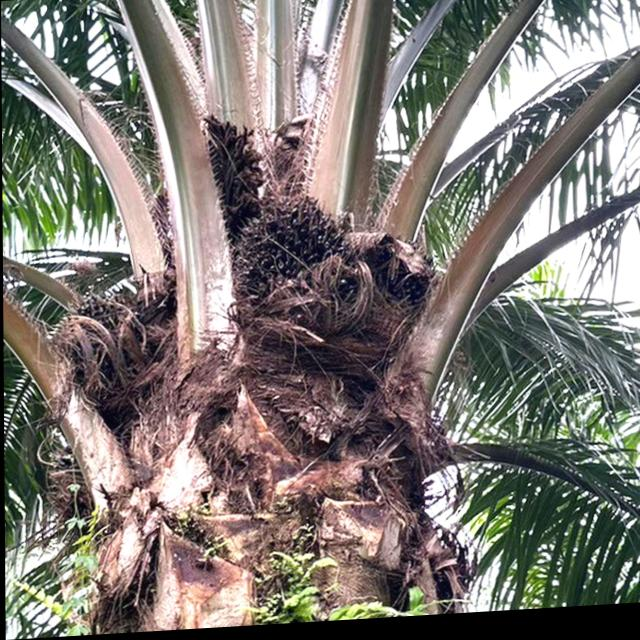unripe: (230, 195, 359, 334), (44, 293, 153, 413), (369, 234, 450, 330)
